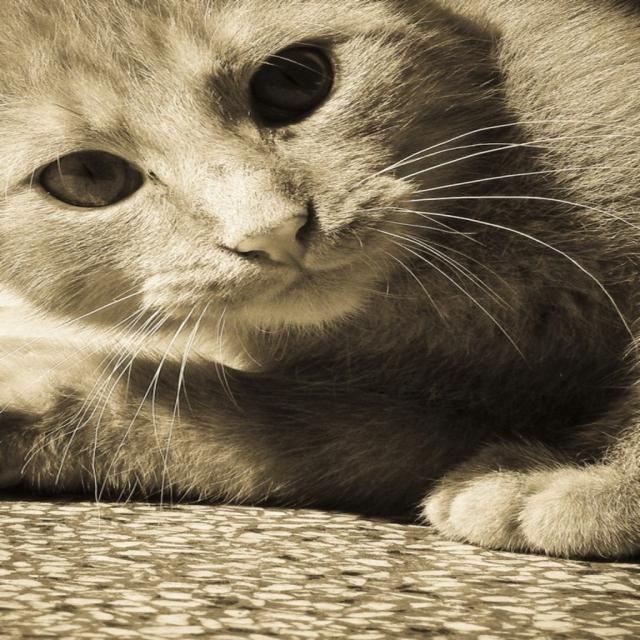Cat: (0, 0, 638, 555)
